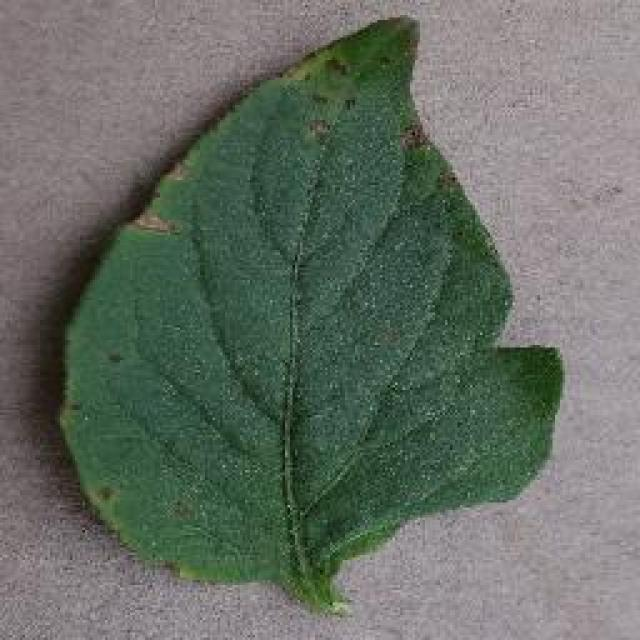Tomato bacterial spot leaf: (54, 11, 568, 592)
